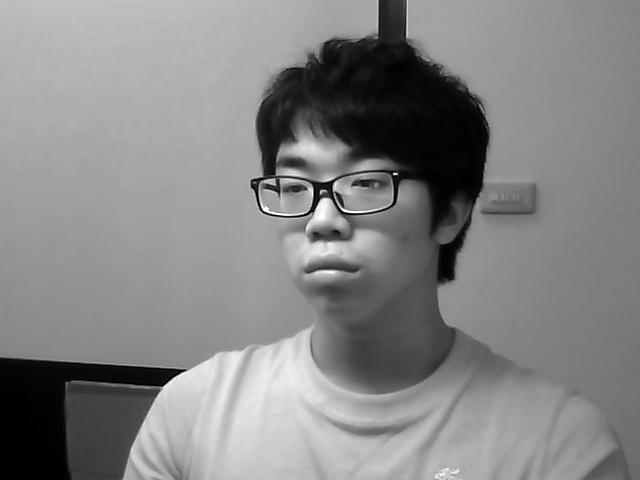eye_open: (278, 169, 320, 211), (342, 170, 388, 202)
face: (271, 113, 432, 322)
